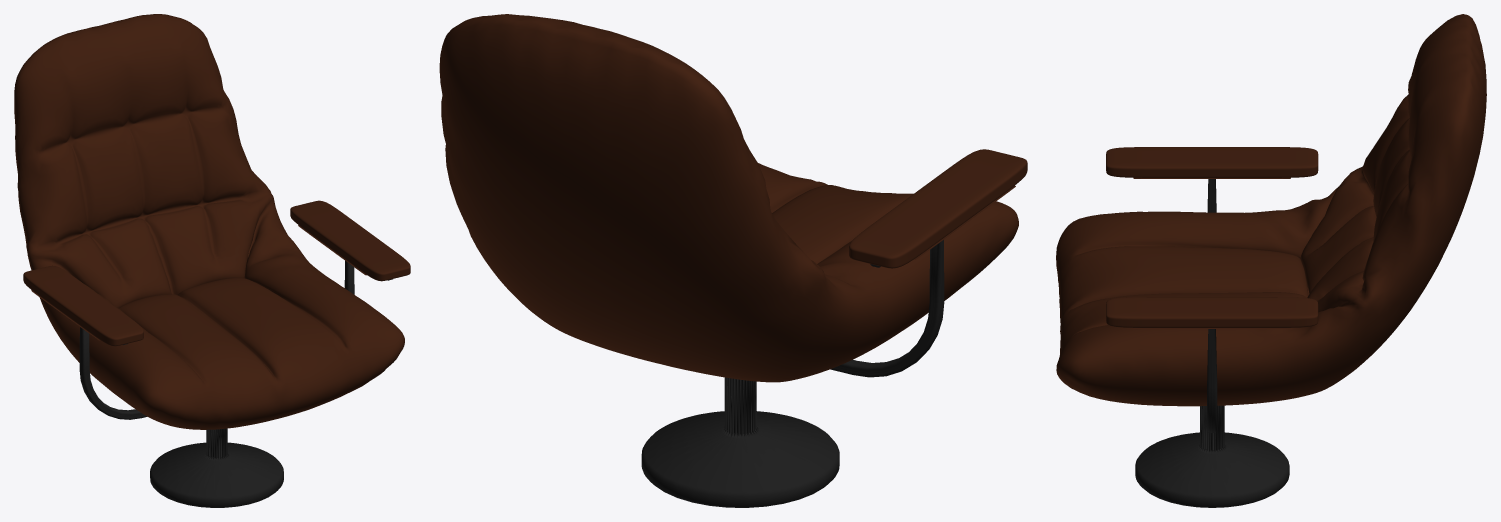
The model's file is teachers chair v2.fbx.
3 views of the same model, side by side, from view 1: azimuth 30°, elevation 25°; view 2: azimuth 150°, elevation 25°; view 3: azimuth 270°, elevation 25° (orthographic). The views are drawn at different scales.
Parts seen in each view (by area): view 1: Chair, Cylinder, Cube.001, Cube.003, Plane.001; view 2: Chair, Cylinder, Cube.001, Plane.001; view 3: Chair, Cylinder, Cube.003, Cube.001, Plane.001.
Boxes of the visible parts, x1,y1,x2,y2 form: Chair: (14,14,404,429); Cylinder: (150,428,283,507); Cube.001: (23,265,143,346); Cube.003: (290,200,410,281); Plane.001: (79,261,392,419); Chair: (439,14,1018,382); Cylinder: (641,377,839,507); Cube.001: (849,149,1027,268); Plane.001: (830,240,944,377); Chair: (1056,14,1486,406); Cylinder: (1135,405,1289,507); Cube.003: (1106,297,1318,328); Cube.001: (1106,147,1318,178); Plane.001: (1207,179,1217,432).
Bounding box in the file's own units: 241 × 284 × 256.
